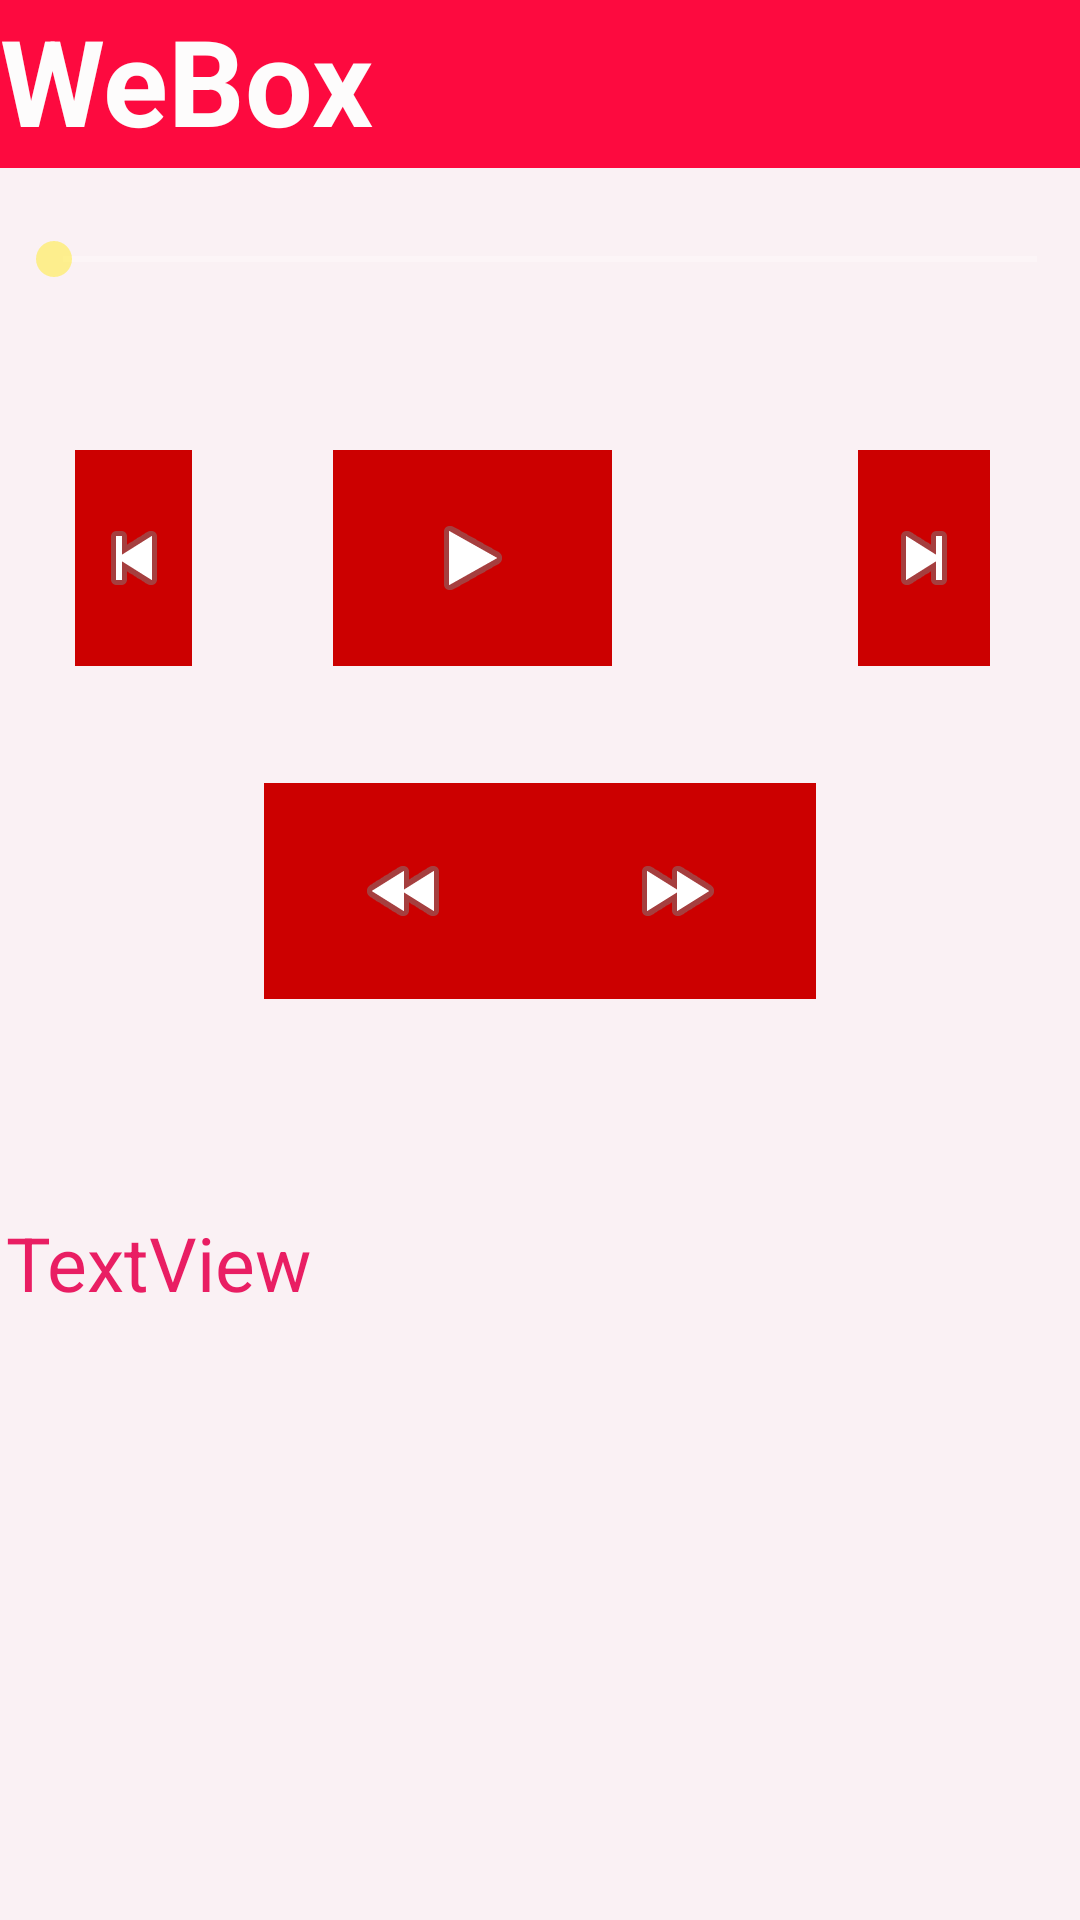

Icons on this 1080x1920 Android screen, each with the point to tap as point (x, y):
next: point (924, 558)
play: point (472, 558)
previous: point (133, 558)
rew: point (403, 891)
